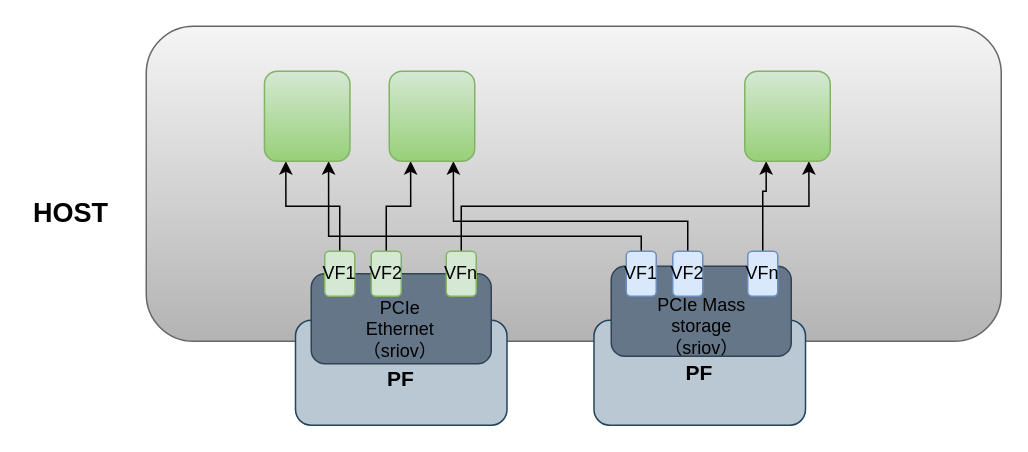
Image size: 1028x452. Some labels were removed from this diagram. Each missing label, with the centre of its shape:
VM1: the point at 306,115
VM2: the point at 431,115
VMn: the point at 786,115
